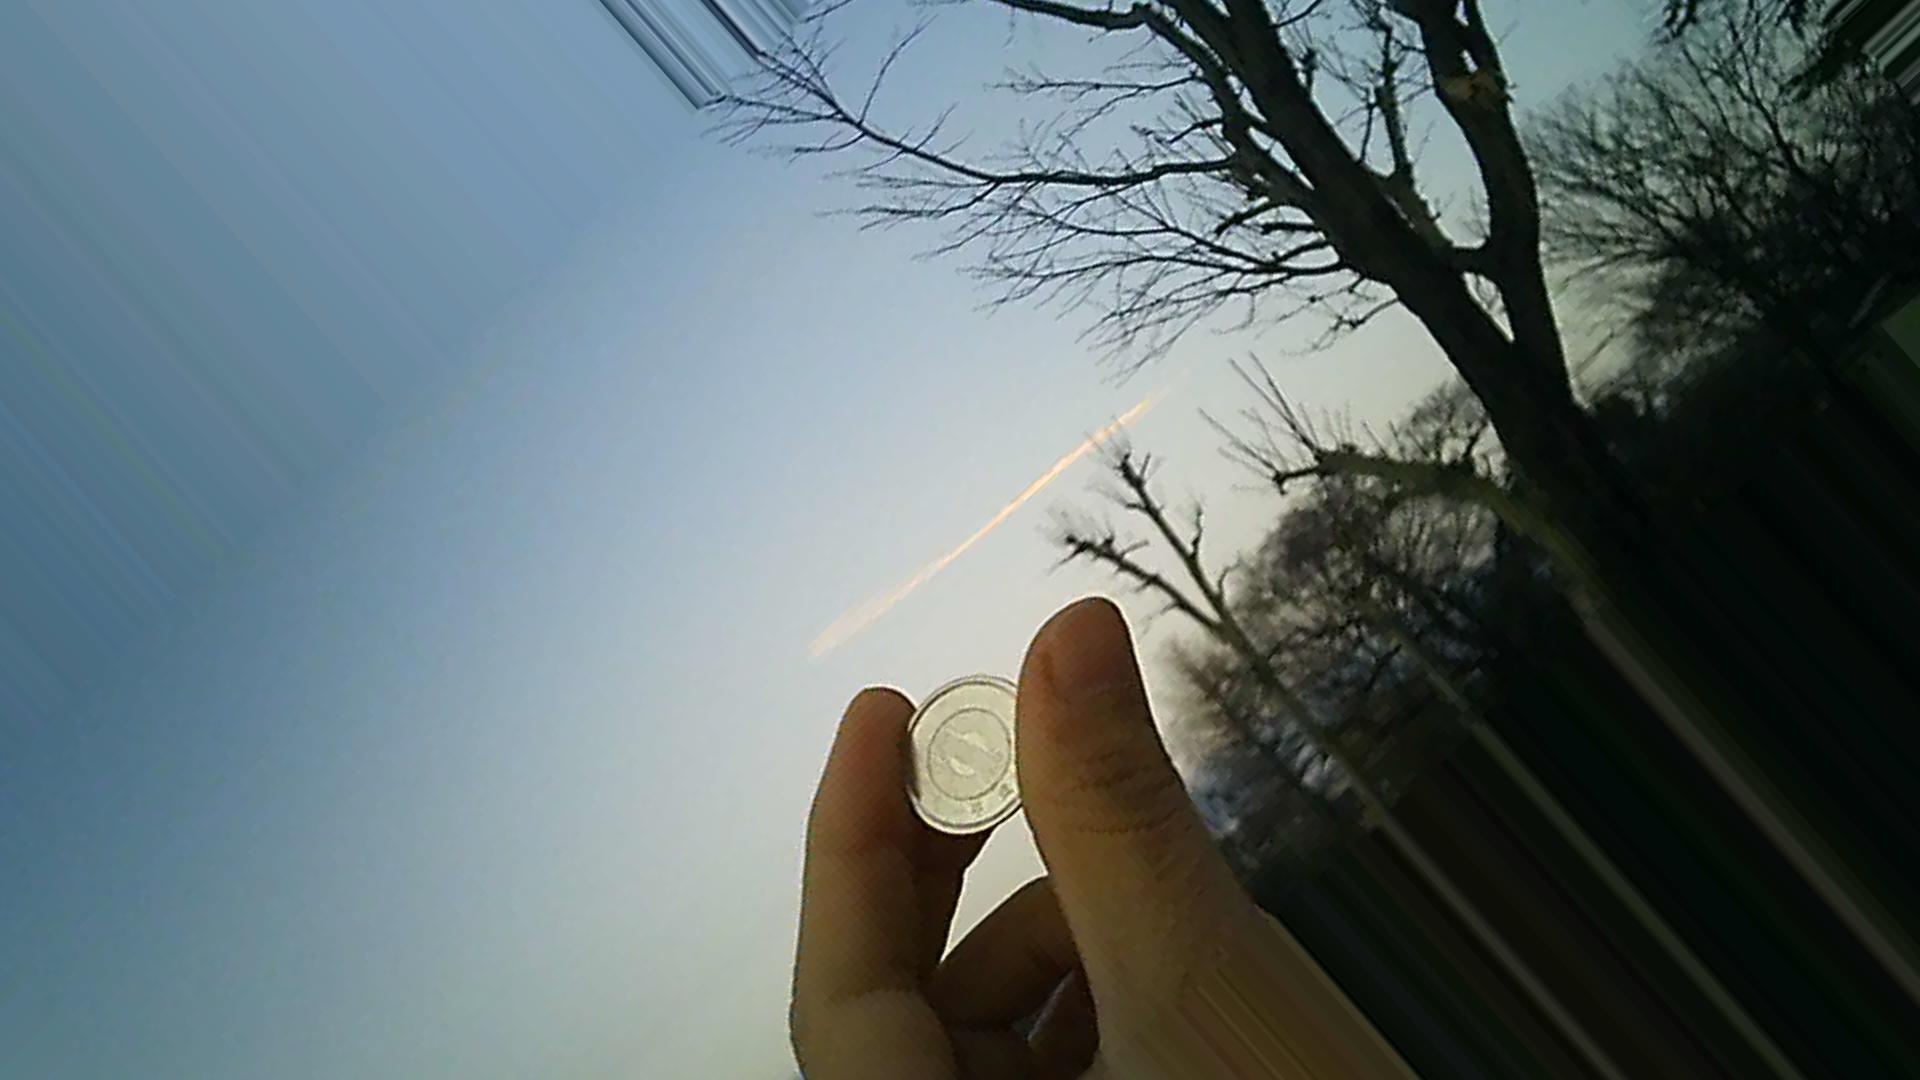1 Yen: (887, 670, 1046, 827)
